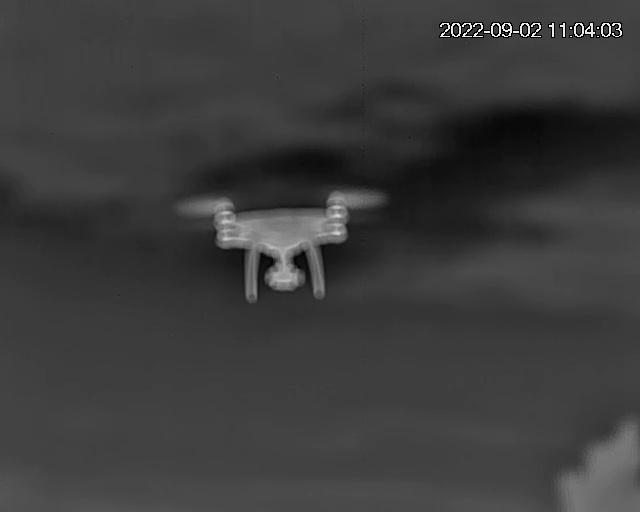DJI-Phantom: (177, 194, 391, 300)
